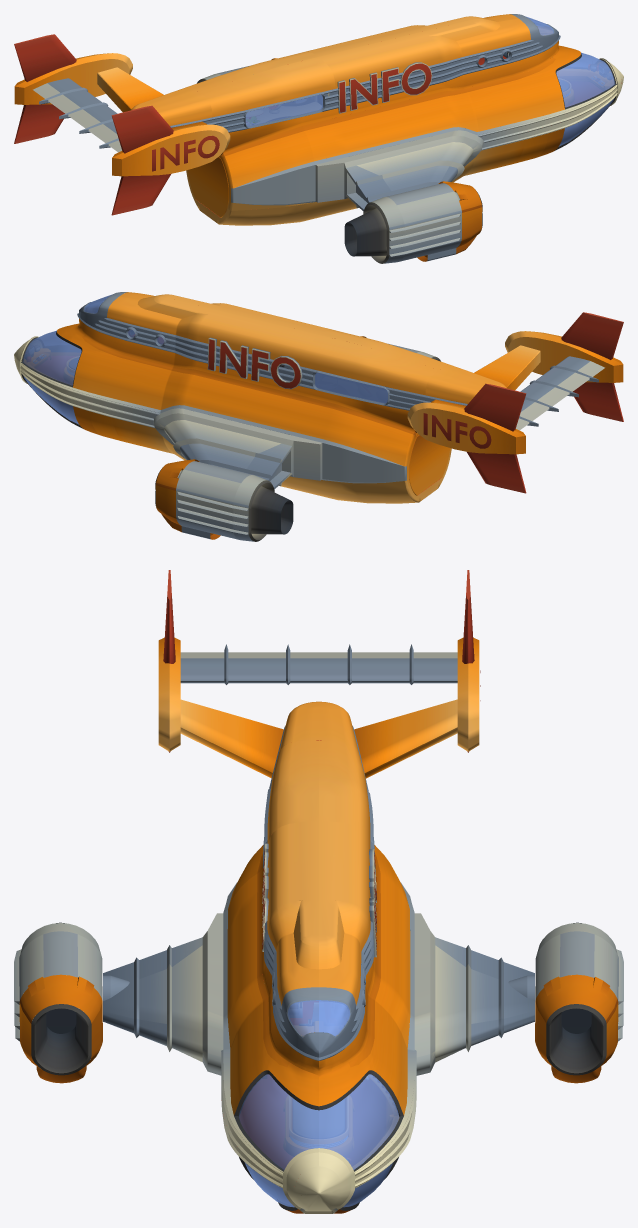
The model's file is lemterprise_only1.glb.
The picture shows the model from 3 angles, top to bottom: view 1: azimuth 30°, elevation 25°; view 2: azimuth 150°, elevation 25°; view 3: azimuth 270°, elevation 25°; orthographic projection. The views are drawn at different scales.
Parts seen in each view (by area): view 1: lemterprise_main, lemterprise_dissolve_d, lemterprise_dissolve_a, lemterprise_engines, lemterprise_dissolve_b, lemterprise_dissolve_e, lemterprise_dissolve_c, lemterprise_main.005, lemterprise_main.006, Plane.013, lemterprise_main.003; view 2: lemterprise_main, lemterprise_engines, lemterprise_main.004, lemterprise_dissolve_e, lemterprise_dissolve_a, lemterprise_dissolve_c, lemterprise_main.005, lemterprise_main.003, lemterprise_dissolve_b; view 3: lemterprise_main, lemterprise_engines, lemterprise_dissolve_d, lemterprise_dissolve_b, lemterprise_dissolve_a, lemterprise_main.003, lemterprise_main.004, lemterprise_dissolve_c, Cylinder.007, lemterprise_main.005.
Boxes of the visible parts, x1,y1,x2,y2 form: lemterprise_main: [14, 14, 623, 225]; lemterprise_dissolve_d: [303, 88, 483, 211]; lemterprise_dissolve_a: [319, 18, 560, 113]; lemterprise_engines: [197, 58, 482, 263]; lemterprise_dissolve_b: [467, 47, 621, 142]; lemterprise_dissolve_e: [187, 126, 315, 217]; lemterprise_dissolve_c: [199, 57, 336, 132]; lemterprise_main.005: [559, 99, 613, 146]; lemterprise_main.006: [557, 69, 613, 90]; Plane.013: [246, 102, 321, 123]; lemterprise_main.003: [567, 82, 602, 106]; lemterprise_main: [14, 296, 623, 503]; lemterprise_engines: [155, 336, 440, 541]; lemterprise_main.004: [23, 332, 81, 385]; lemterprise_dissolve_e: [409, 435, 451, 495]; lemterprise_dissolve_a: [87, 292, 330, 334]; lemterprise_dissolve_c: [320, 329, 448, 369]; lemterprise_main.005: [24, 377, 78, 424]; lemterprise_main.003: [37, 356, 75, 383]; lemterprise_dissolve_b: [32, 323, 80, 351]; lemterprise_main: [158, 570, 534, 1213]; lemterprise_engines: [14, 922, 623, 1083]; lemterprise_dissolve_d: [103, 868, 268, 1075]; lemterprise_dissolve_b: [221, 999, 318, 1187]; lemterprise_dissolve_a: [262, 821, 318, 1060]; lemterprise_main.003: [240, 1075, 385, 1168]; lemterprise_main.004: [319, 1074, 399, 1169]; lemterprise_dissolve_c: [263, 741, 318, 868]; Cylinder.007: [284, 1096, 353, 1155]; lemterprise_main.005: [244, 1162, 393, 1207].
Size of the model in its own units: 33.16 by 10.66 by 20.41.
16 materials, 10 textured.
